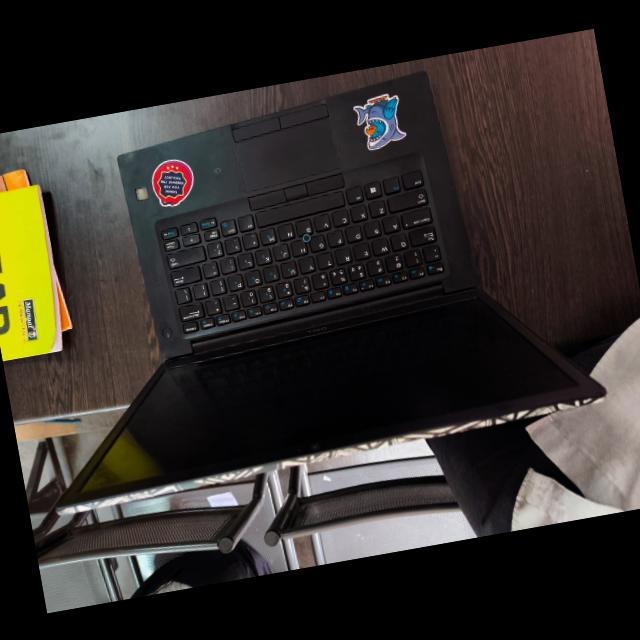laptop: (2, 48, 614, 511)
